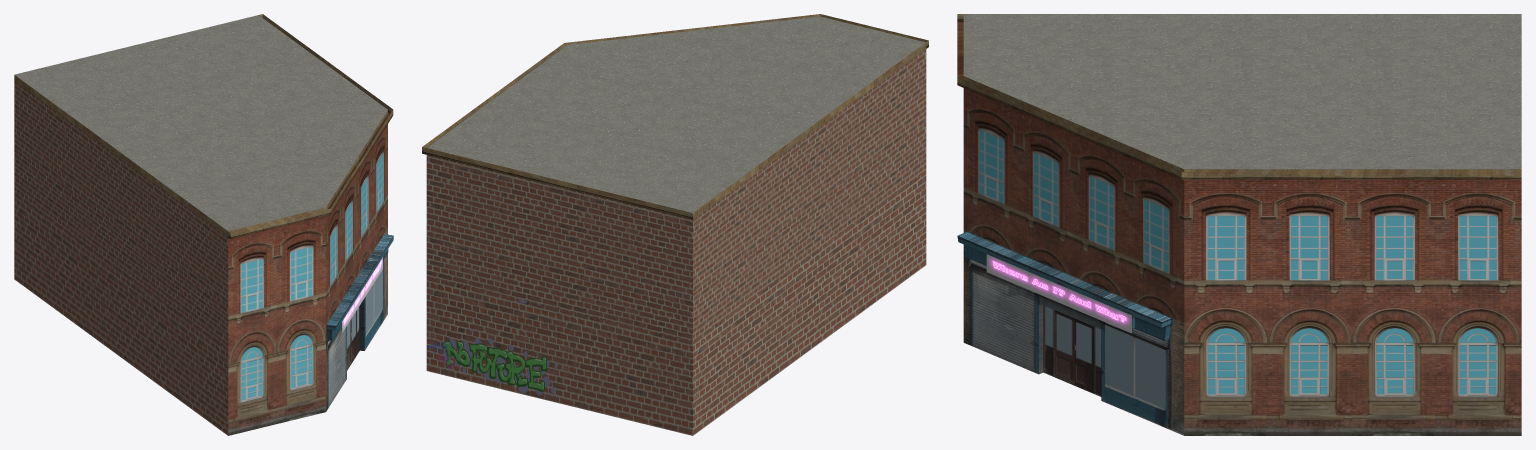
File: bldg_002.glb
3 views of the same model, side by side, from view 1: azimuth 30°, elevation 25°; view 2: azimuth 150°, elevation 25°; view 3: azimuth 270°, elevation 25° (orthographic). The views are drawn at different scales.
Visible parts, largest first — view 1: bldg_002; view 2: bldg_002; view 3: bldg_002.
Part boxes in pixels (<box>): bldg_002: <box>14,14,393,435</box>; bldg_002: <box>422,14,928,435</box>; bldg_002: <box>957,14,1521,435</box>.
Size of what is drawn, in the model's own units: 10.17 by 8 by 15.34.
6 materials, 5 textured.
